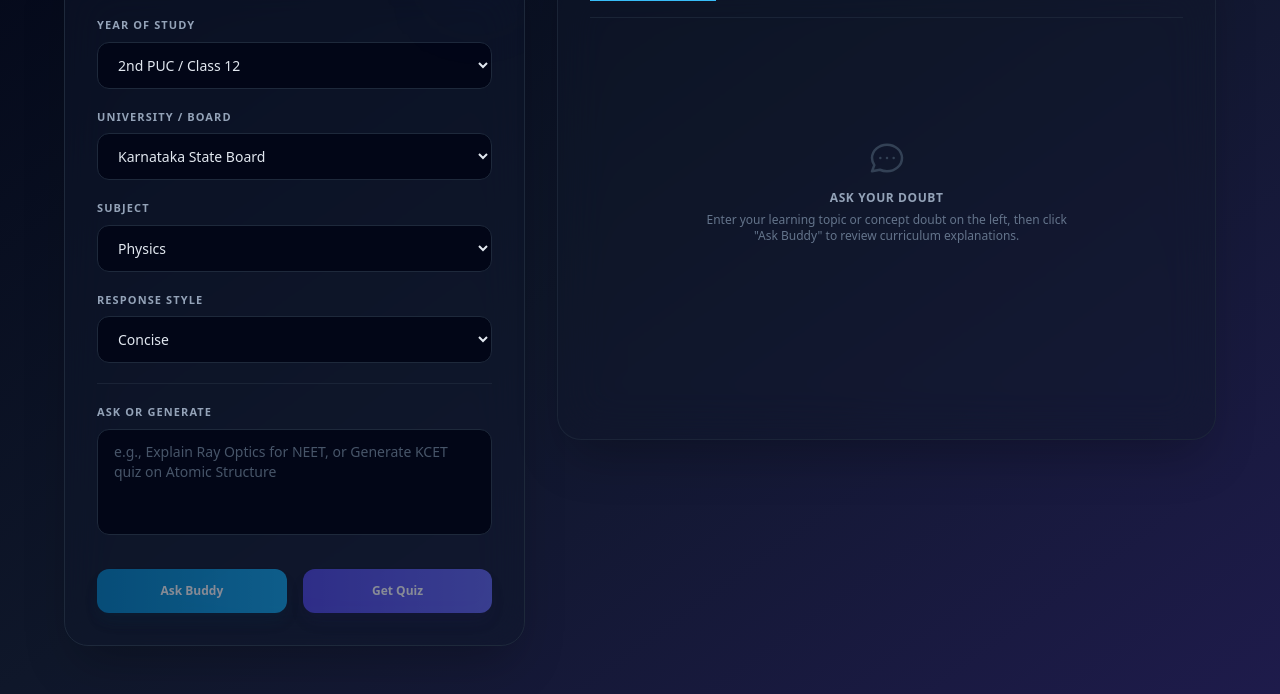
Test: StudyMateDashboard Frontend UI Tests › 9. Error message displays on backend failure
(page scrolled)
Replace the text in the text box with placeholder "e.g.," with "Explain optics": point(295, 482) top-left (97, 428), bottom-right (492, 534)
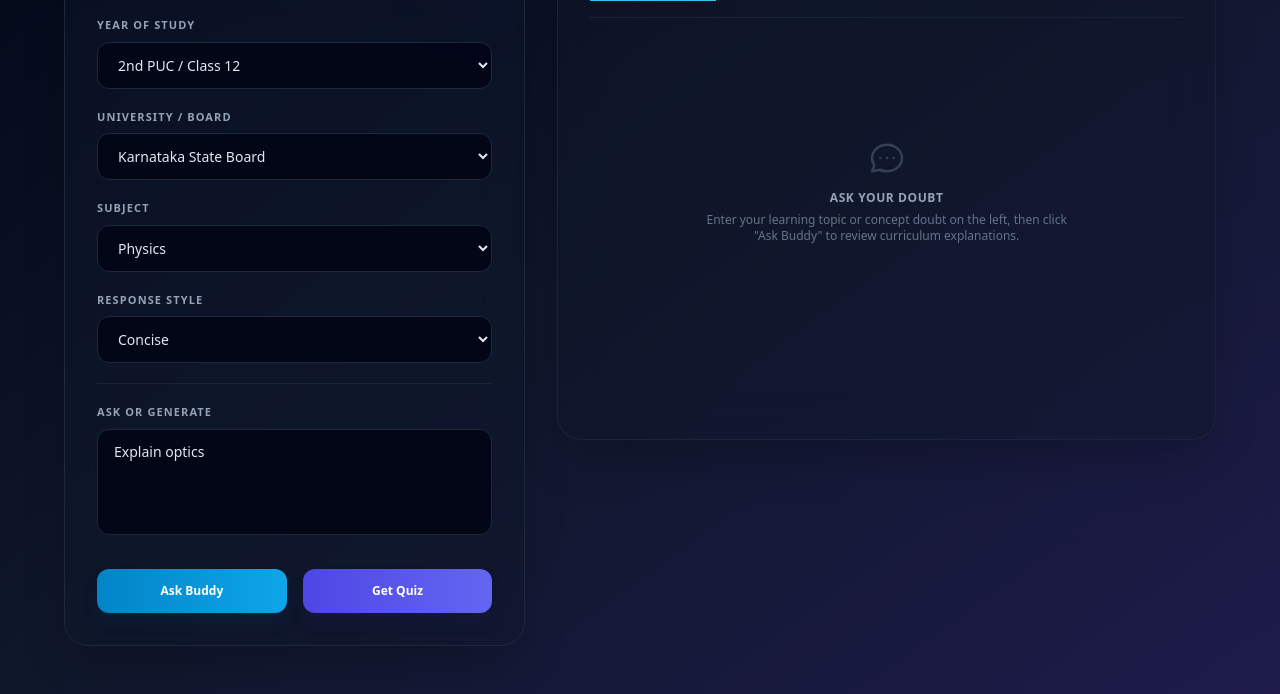
Click the button "Ask Buddy": point(192, 590) top-left (97, 568), bottom-right (287, 612)
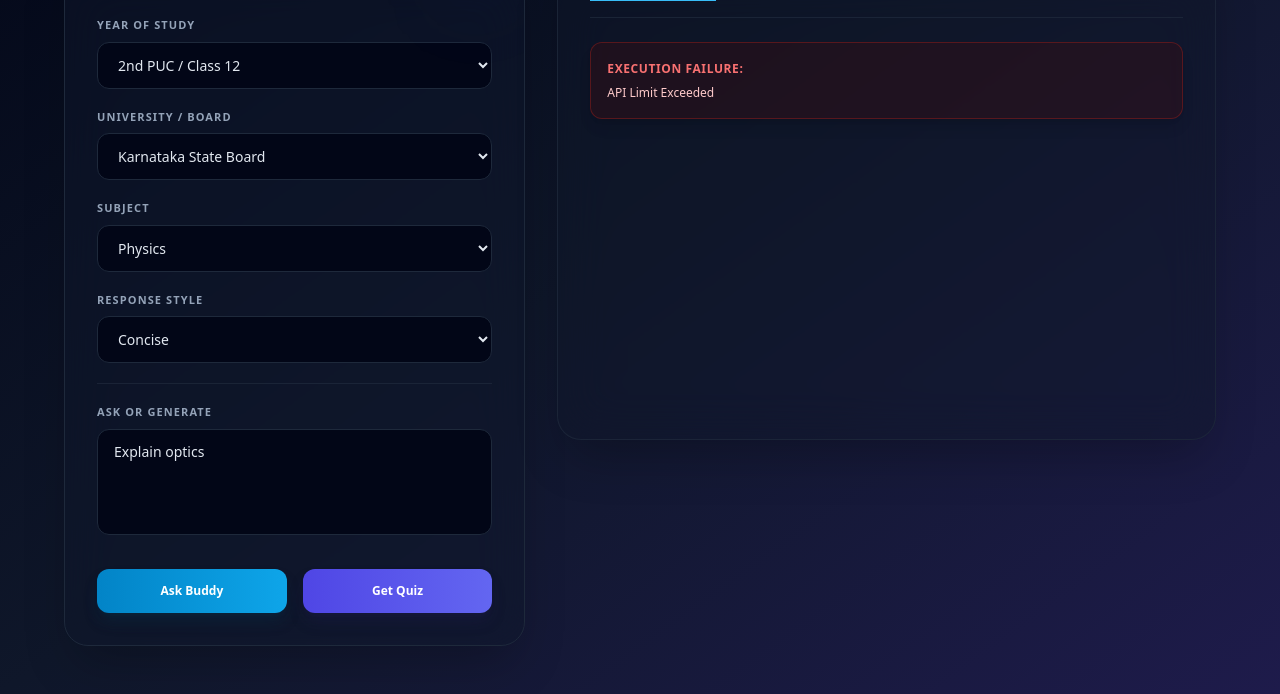
Expected: the text "Execution Failure: API Limit Exceeded" is shown, top-left (590, 42), bottom-right (1183, 119)
